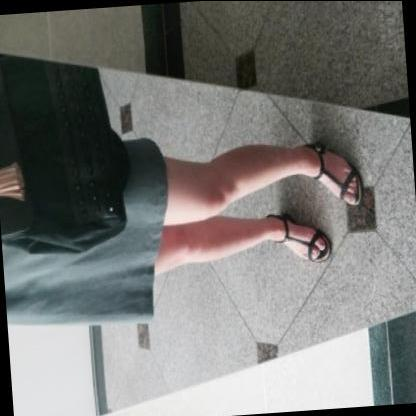no_safety-shoe: (289, 116, 386, 212), (268, 194, 349, 278)
